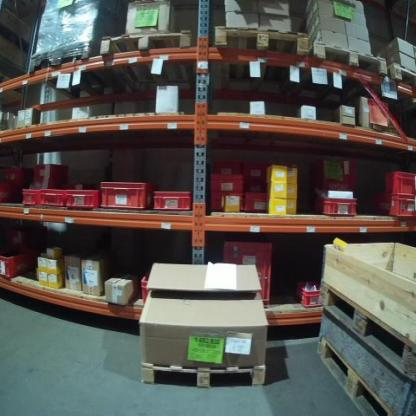pallet: (311, 279, 416, 383), (312, 335, 396, 416), (139, 360, 267, 388), (214, 24, 309, 58), (312, 40, 388, 76), (98, 29, 191, 58), (28, 42, 94, 74), (389, 61, 416, 90)
small_load_carrier: (224, 239, 272, 310), (98, 179, 153, 208), (312, 189, 357, 221), (371, 192, 415, 218), (290, 275, 325, 307), (1, 248, 35, 279), (381, 166, 416, 193), (154, 189, 195, 211), (29, 165, 71, 186), (66, 187, 102, 210), (210, 175, 245, 194), (210, 194, 242, 213), (2, 164, 31, 184), (39, 186, 66, 207), (139, 273, 155, 302), (243, 194, 268, 212), (21, 187, 41, 207), (1, 184, 15, 206)
